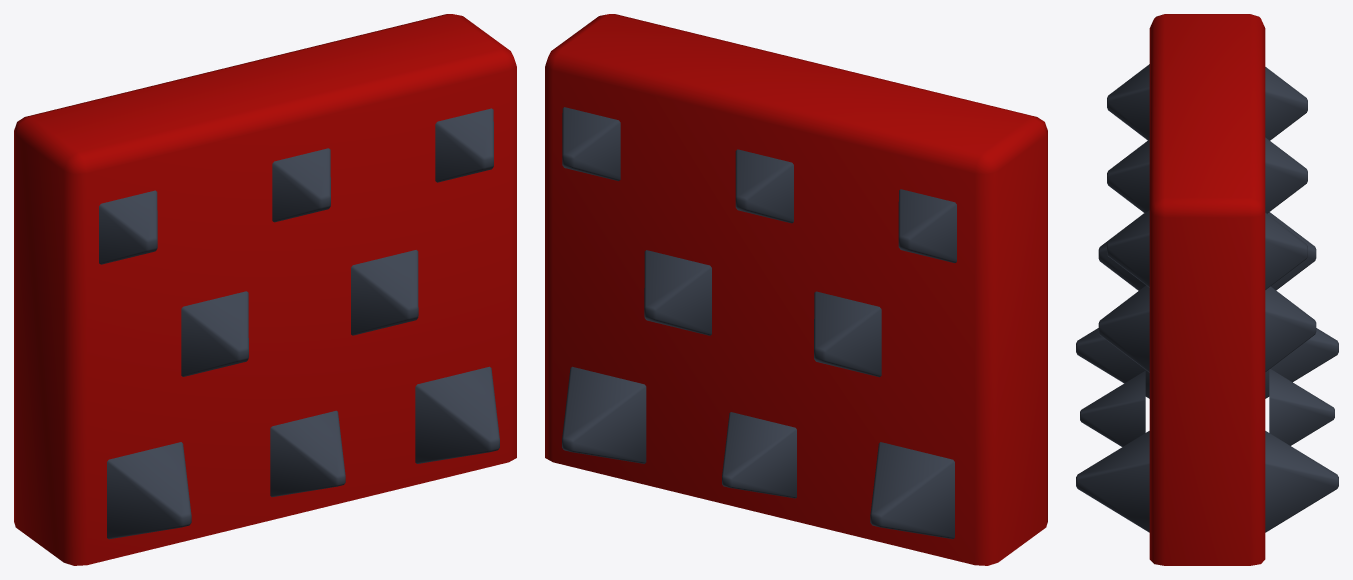
File: little_death_wall.fbx
The picture shows the model from 3 angles, left to right: view 1: azimuth 30°, elevation 25°; view 2: azimuth 150°, elevation 25°; view 3: azimuth 270°, elevation 25°; orthographic projection. The views are drawn at different scales.
Visible parts, largest first — view 1: little_death_wall; view 2: little_death_wall; view 3: little_death_wall.
Part boxes in pixels (x1,y1,x2,y2): little_death_wall: (14,14,516,565); little_death_wall: (545,14,1047,565); little_death_wall: (1076,14,1338,565).
Bounding box in the file's own units: 443 × 382 × 251.
